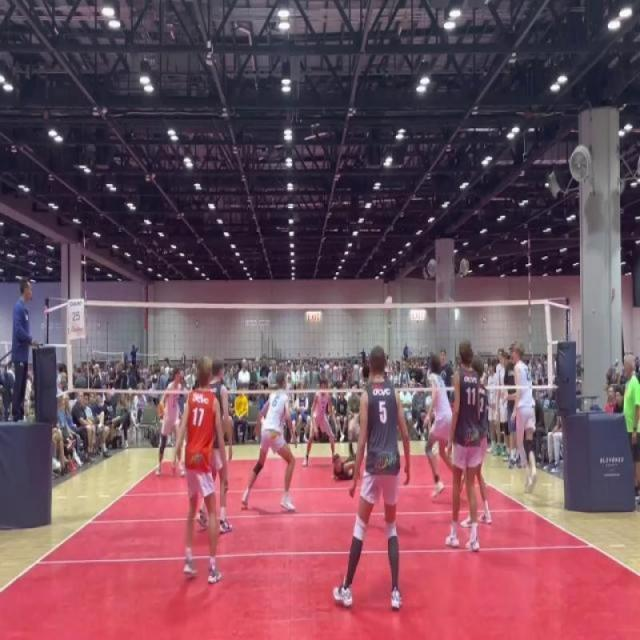volleyball: (384, 293, 394, 312)
